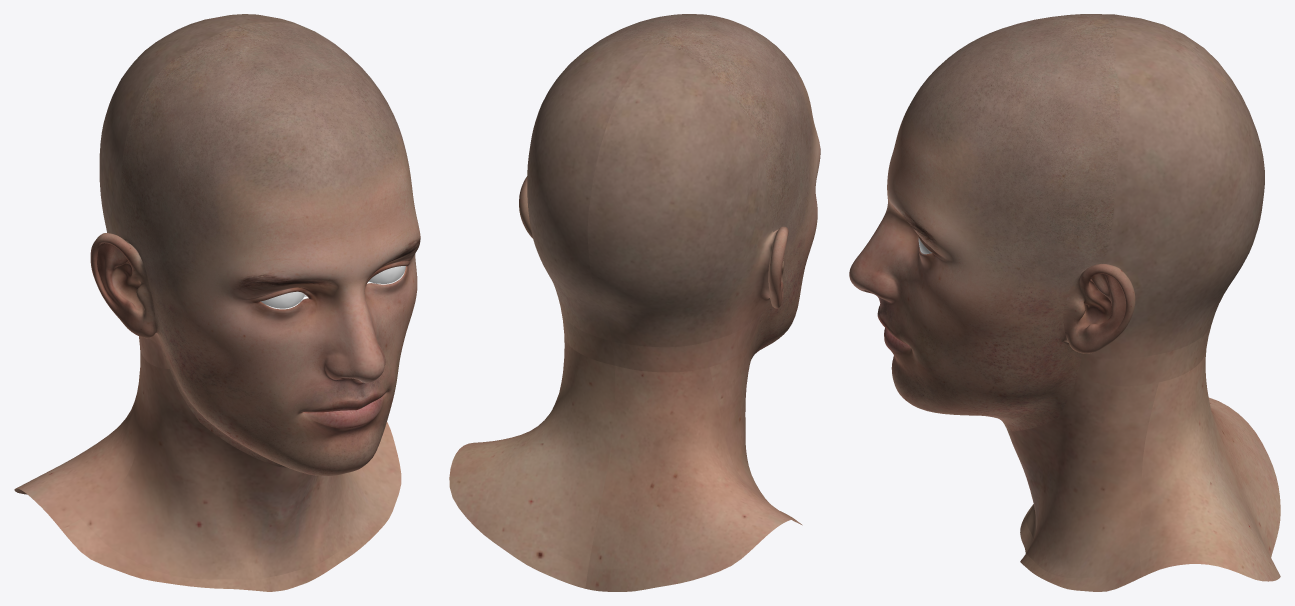
Rendered from Male.obj.
3 views of the same model, side by side, from view 1: azimuth 30°, elevation 25°; view 2: azimuth 150°, elevation 25°; view 3: azimuth 270°, elevation 25° (orthographic). The views are drawn at different scales.
Visible parts, largest first — view 1: Genesis2Male, default; view 2: Genesis2Male, default; view 3: Genesis2Male, default.
Part boxes in pixels (<box>): Genesis2Male: <box>90,14,420,475</box>; default: <box>14,336,401,591</box>; Genesis2Male: <box>519,14,820,358</box>; default: <box>449,309,802,591</box>; Genesis2Male: <box>849,14,1264,431</box>; default: <box>1007,326,1280,591</box>.
Bounding box in the file's own units: 21.79 × 32.21 × 23.53.
